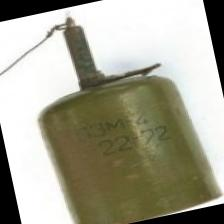OZM-72: (19, 39, 223, 224)
